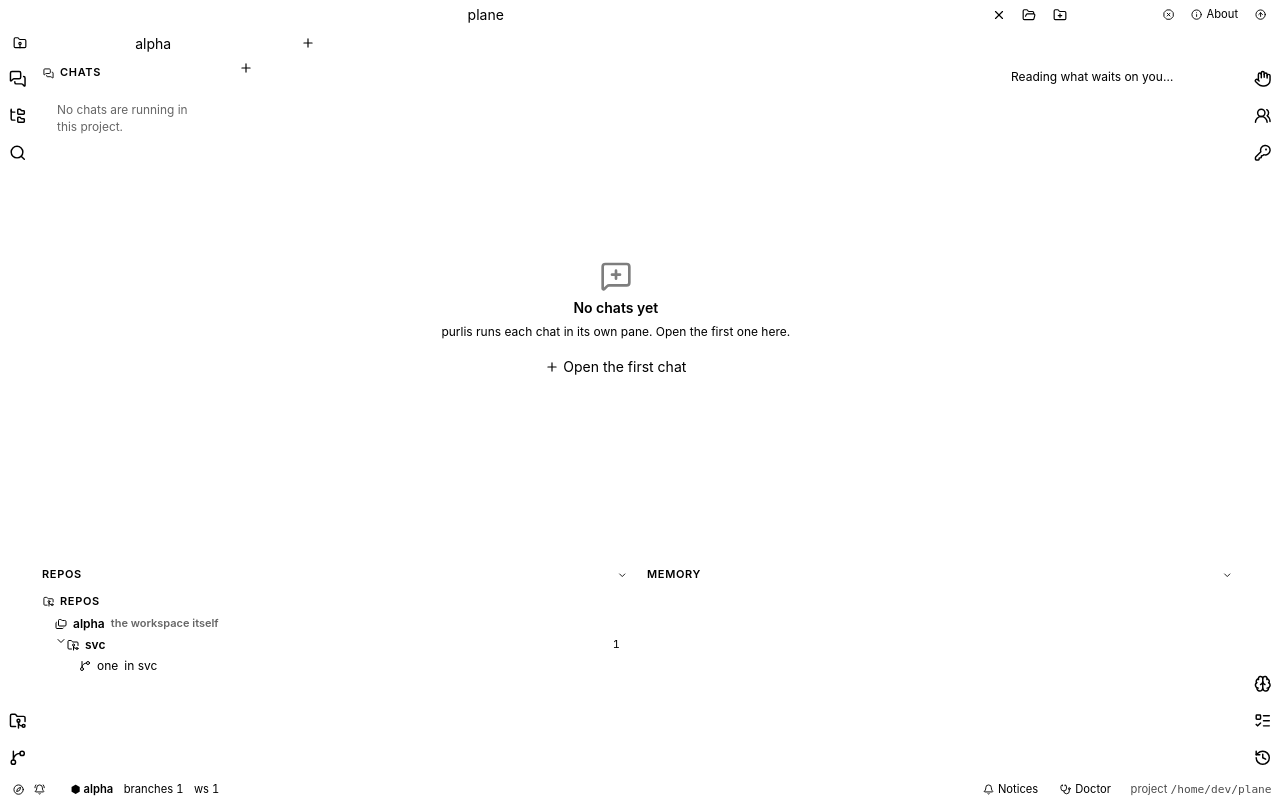
a file or folder row's actions (FM-10) › says no chat is open, and types nothing, where the project has none
The width and height of the screenshot is (1280, 800).
Click the tab named "Explorer" at point(18, 116), box [0,98,35,133]
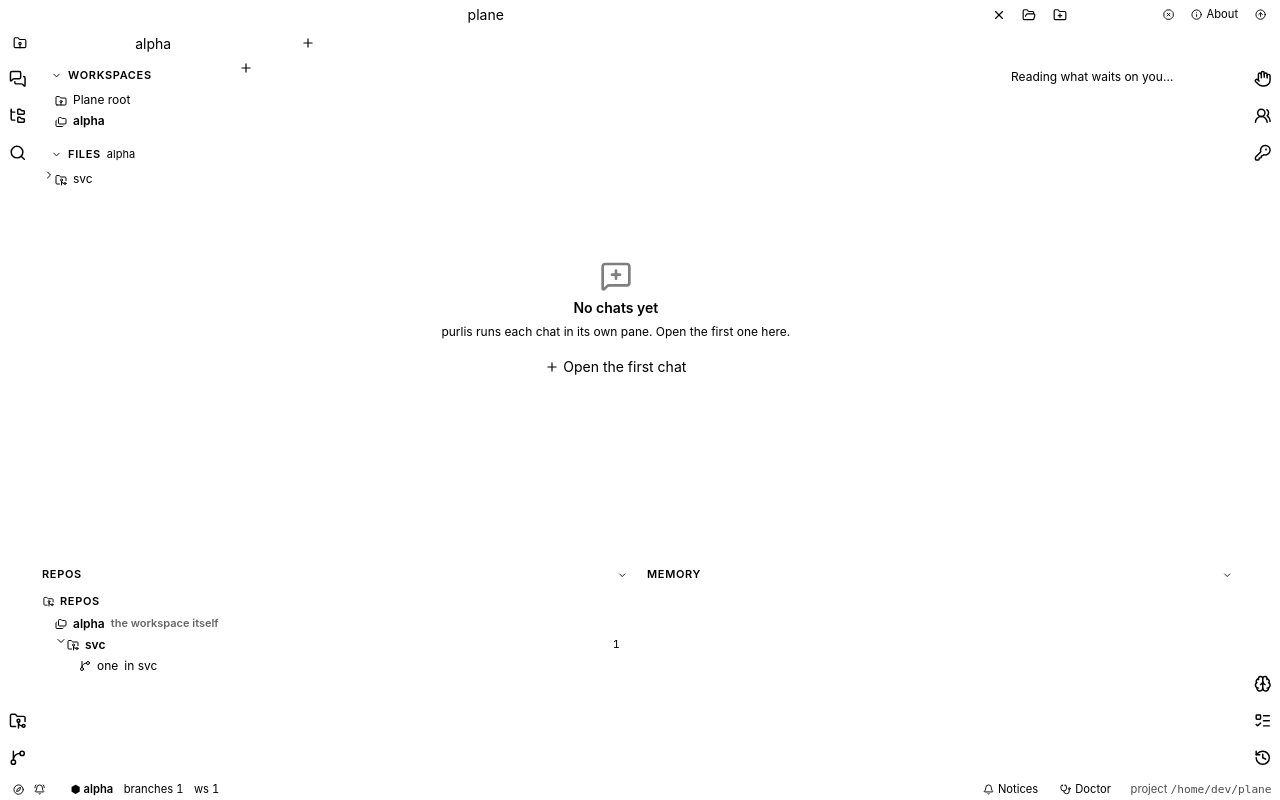
Click the list item "one in svc" at point(85, 666), box [43,656,632,676]
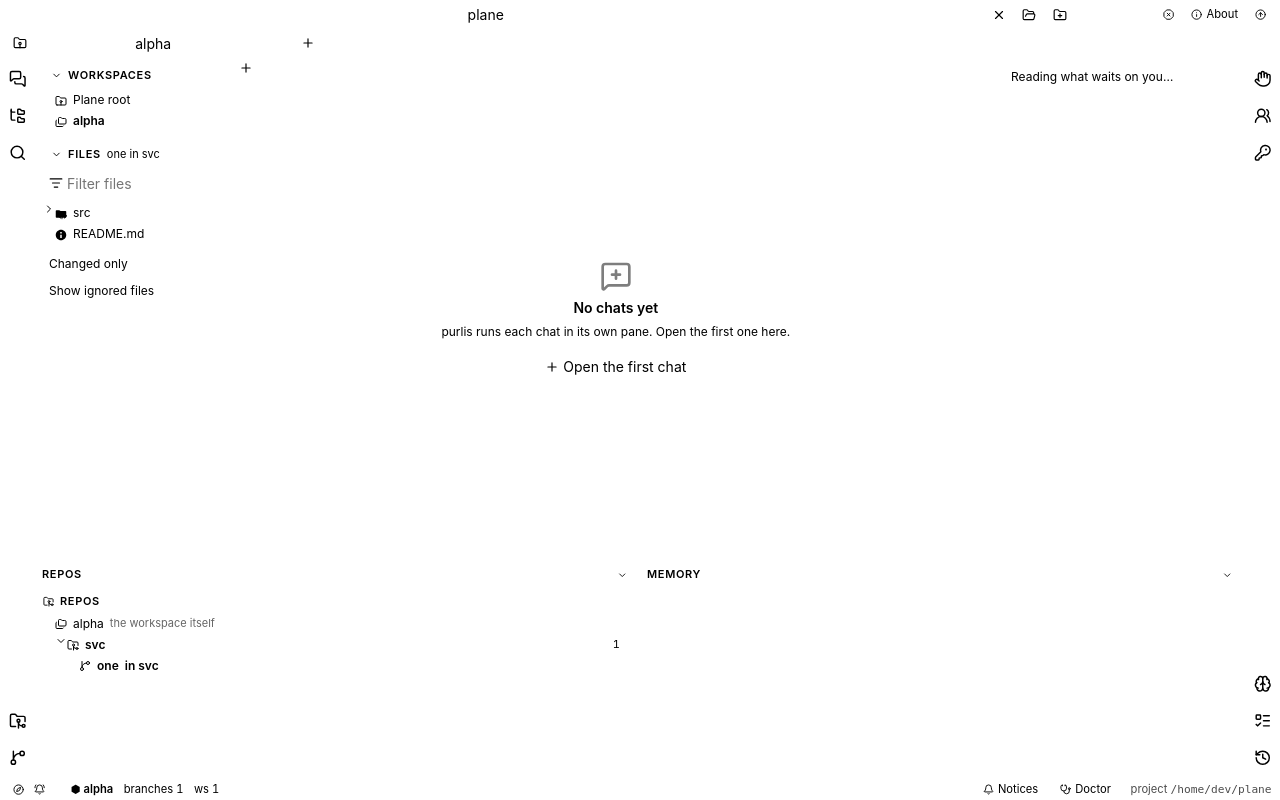
Right-click the list item "src" at point(132, 214), box [43,203,221,224]
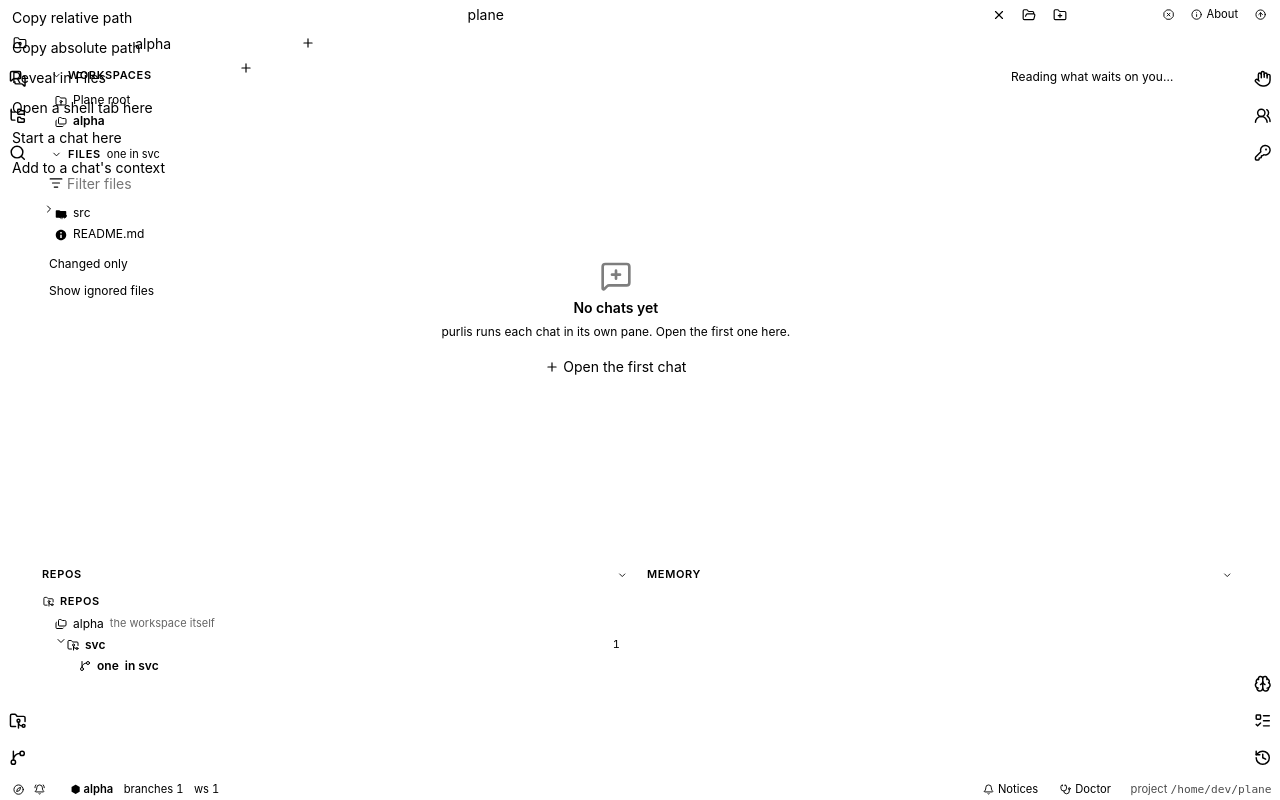
Click the menu item "Add to a chat's context" at point(88, 168), box [12,159,165,176]
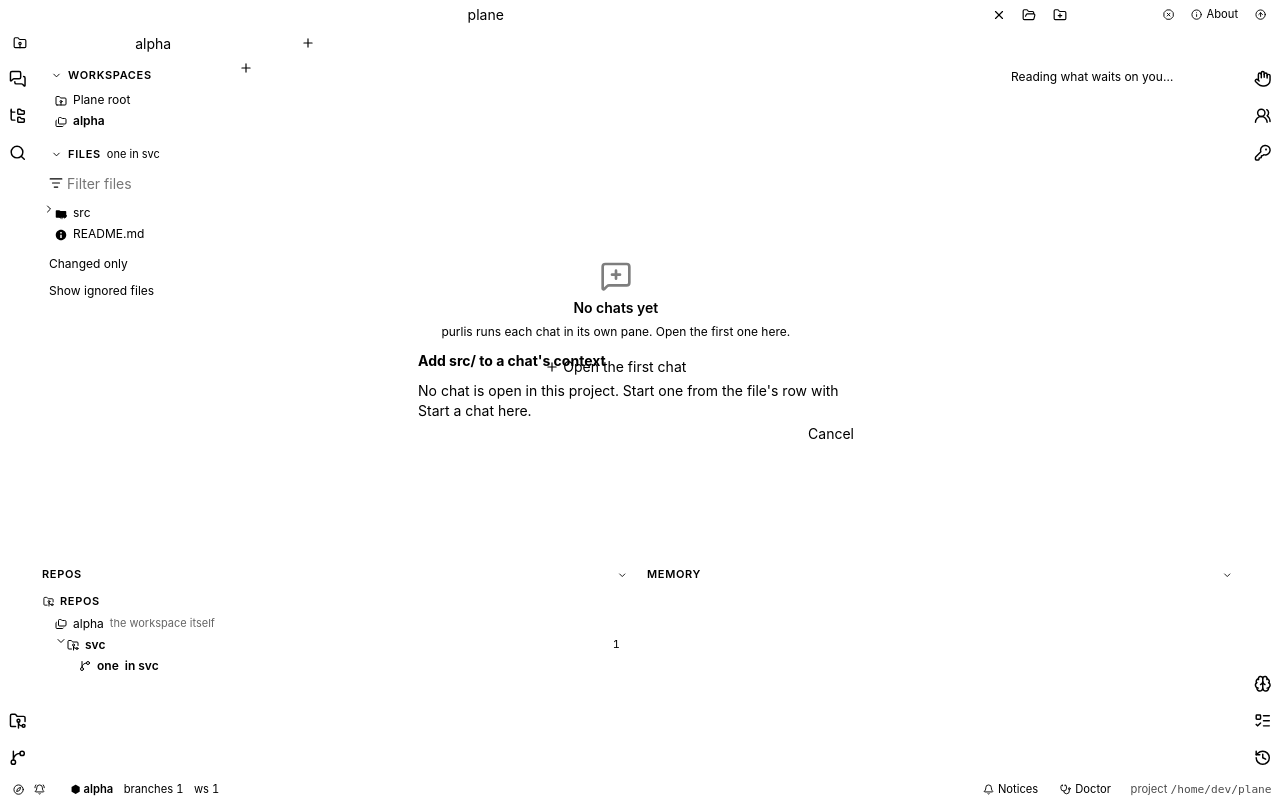
Result: the message shows "No chat is open" at [418,382,839,419]
Click the button "Cancel" at point(831, 435), box [800,421,862,449]
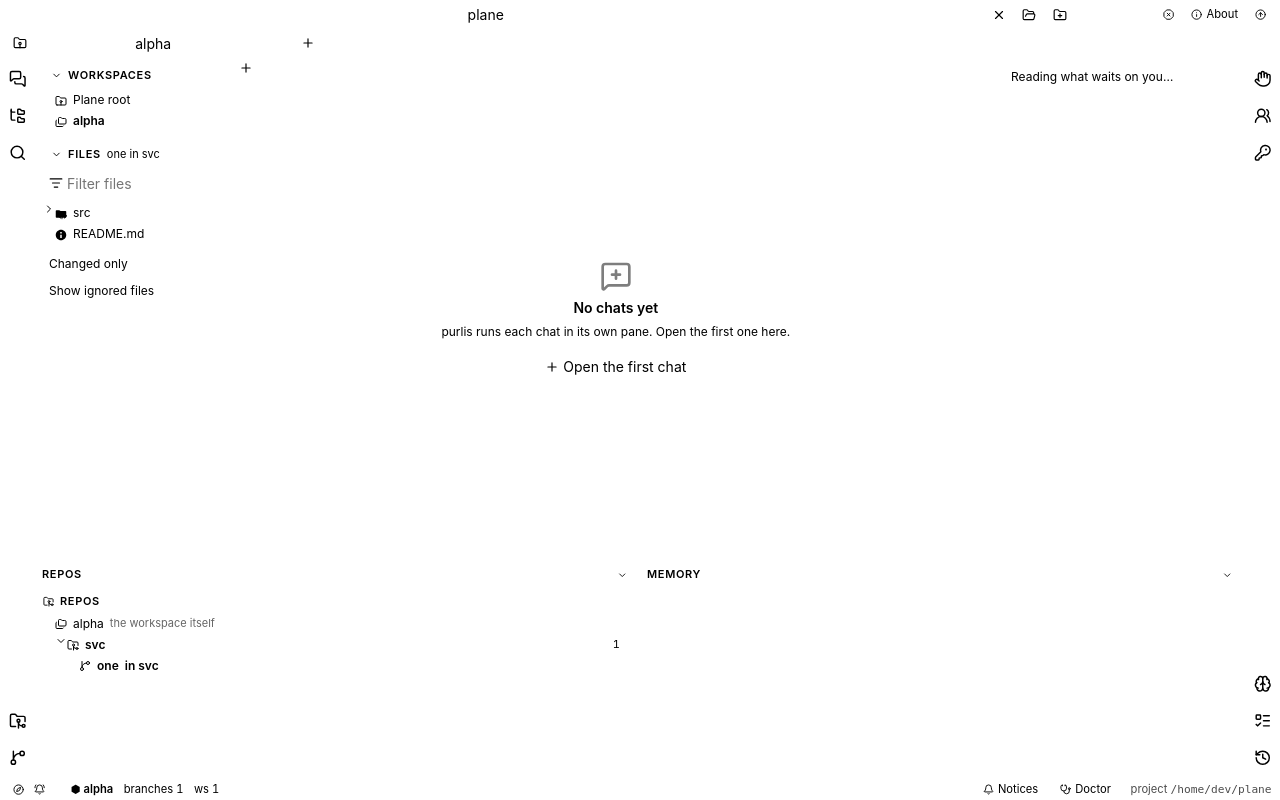
Result: the dialog is gone
